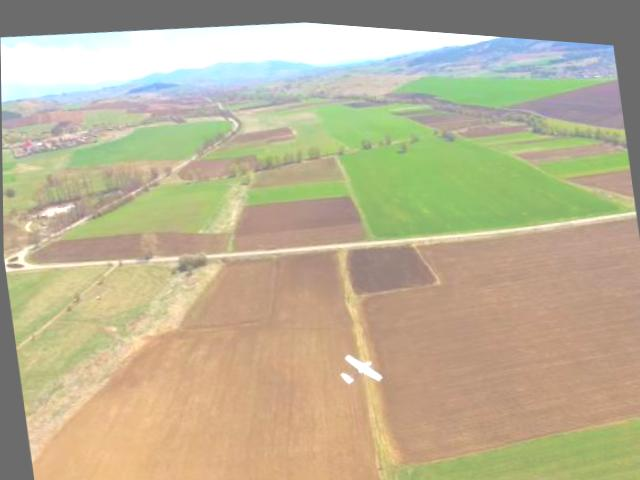uav: (330, 336, 388, 392)
